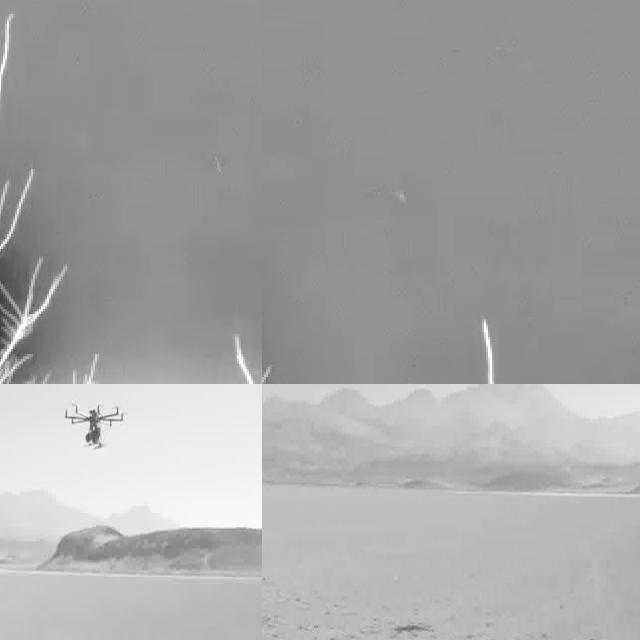0: (210, 154, 232, 184), (393, 186, 415, 213)
drone: (62, 396, 126, 451)
